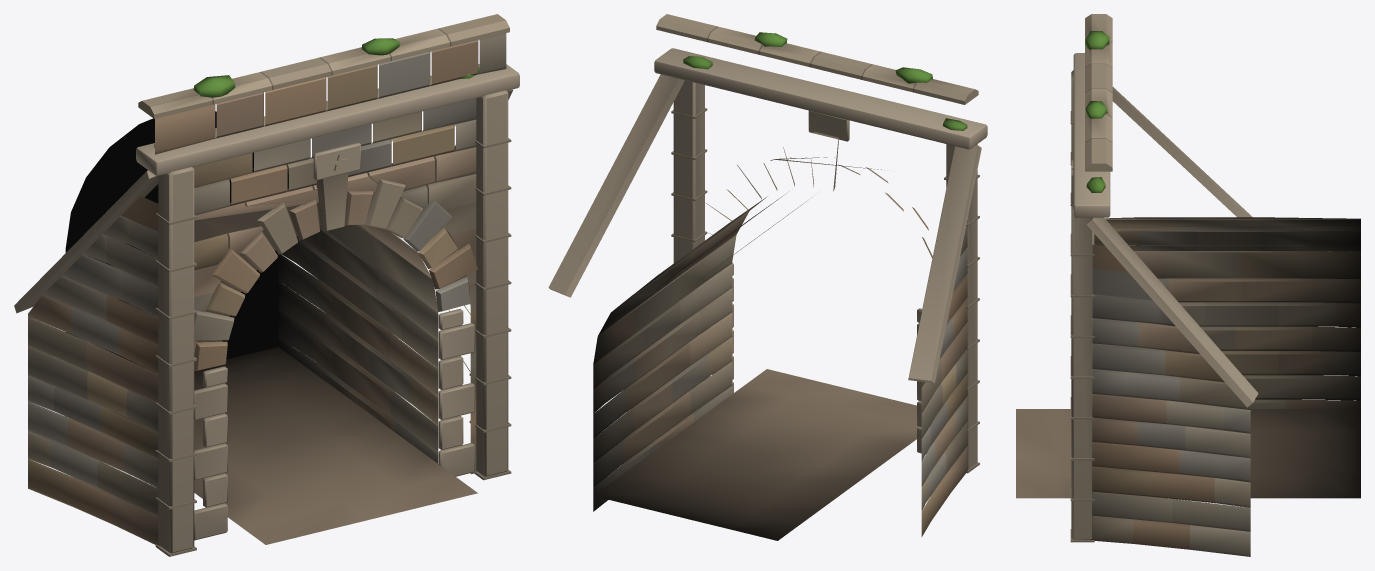
File: tunnel-portal.glb
3 renders of one model, left to right at view 1: azimuth 30°, elevation 25°; view 2: azimuth 150°, elevation 25°; view 3: azimuth 270°, elevation 25°, orthographic. The views are drawn at different scales.
Parts seen in each view (by area): view 1: tunnel-portal Viaduct stone, tunnel-portal Ballast, tunnel-portal Moss; view 2: tunnel-portal Viaduct stone, tunnel-portal Ballast, tunnel-portal Moss; view 3: tunnel-portal Viaduct stone, tunnel-portal Ballast, tunnel-portal Moss.
Part boxes in pixels (x1,y1,x2,y2): tunnel-portal Viaduct stone: [14, 14, 519, 556]; tunnel-portal Ballast: [110, 347, 477, 544]; tunnel-portal Moss: [154, 38, 479, 147]; tunnel-portal Viaduct stone: [548, 14, 987, 536]; tunnel-portal Ballast: [594, 369, 918, 540]; tunnel-portal Moss: [683, 32, 967, 130]; tunnel-portal Viaduct stone: [1070, 14, 1360, 556]; tunnel-portal Ballast: [1016, 409, 1360, 498]; tunnel-portal Moss: [1085, 31, 1109, 192].
Bounding box in the file's own units: 9.58 × 9.36 × 7.5.
